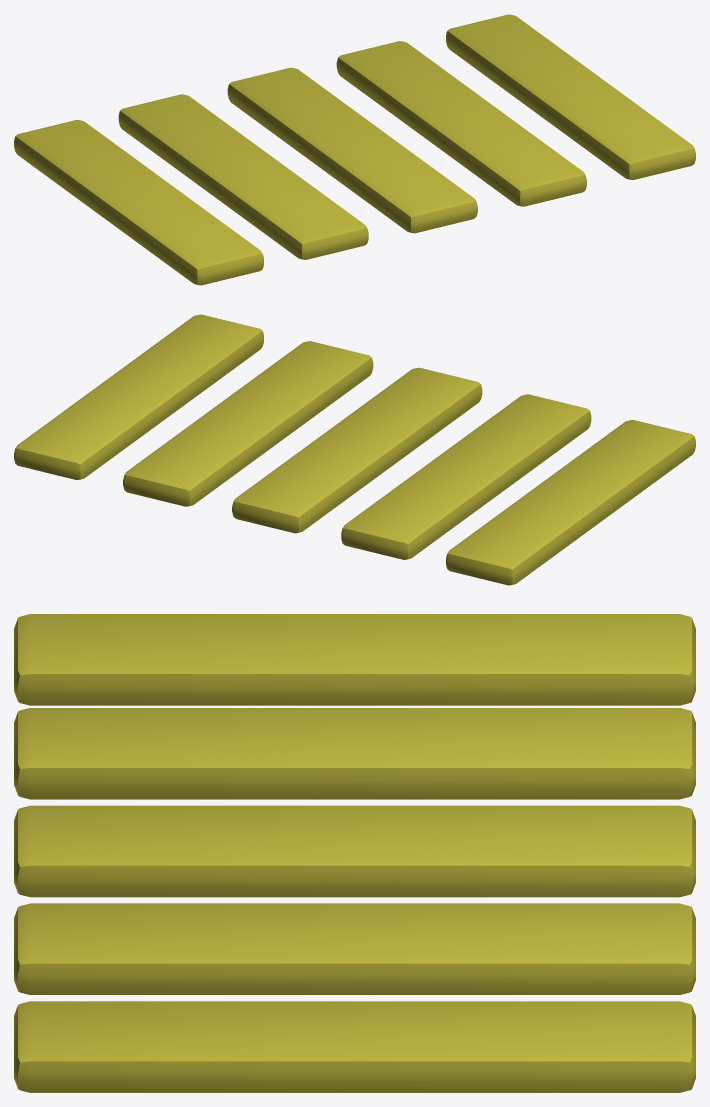
The model's file is SM_pedestrian_crossing.fbx.
3 views of the same model, one above another, from view 1: azimuth 30°, elevation 25°; view 2: azimuth 150°, elevation 25°; view 3: azimuth 270°, elevation 25° (orthographic). The views are drawn at different scales.
Parts seen in each view (by area): view 1: Box240; view 2: Box240; view 3: Box240.
Part boxes in pixels (left/top/right/bottom): Box240: left=14, top=14, right=695, bottom=285; Box240: left=14, top=314, right=695, bottom=585; Box240: left=14, top=614, right=695, bottom=1092.
Size of the model in its own units: 165 by 6.64 by 106.
